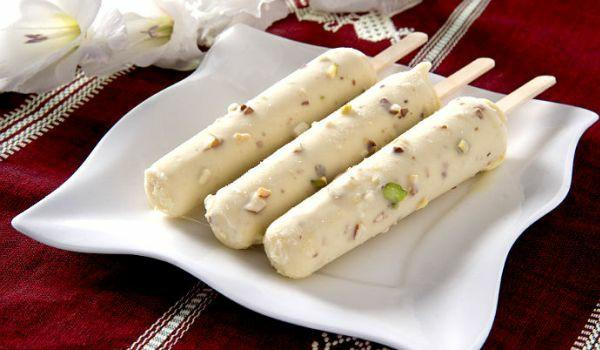Kulfi: (265, 97, 507, 280), (204, 72, 440, 248), (143, 47, 377, 217)
